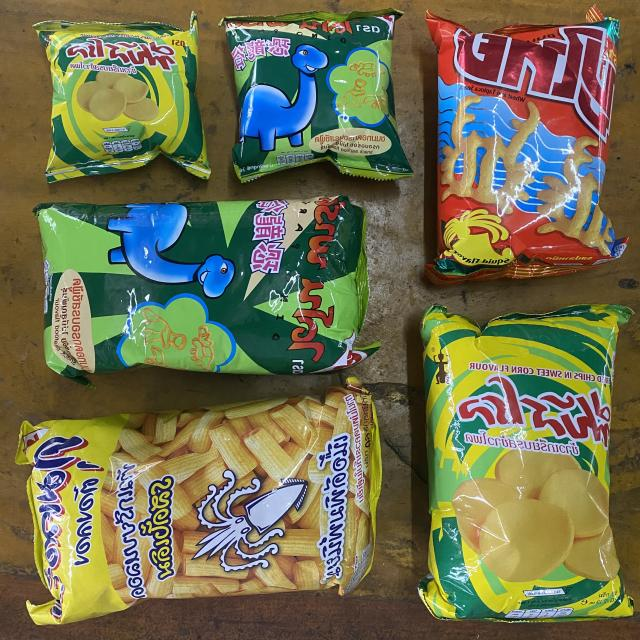plastik: (16, 382, 382, 625), (419, 305, 633, 622), (35, 196, 378, 383), (426, 6, 628, 285), (221, 9, 412, 182), (34, 14, 209, 182)
